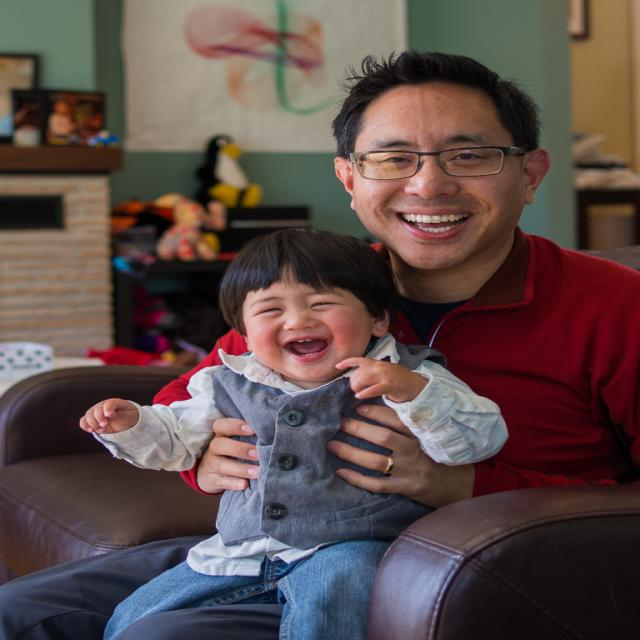Glasses: (344, 130, 537, 173)
